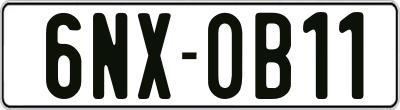0: (206, 12, 245, 102)
1: (303, 11, 328, 103), (338, 10, 363, 102)
6: (43, 11, 84, 103)
B: (254, 10, 296, 96)
N: (92, 11, 128, 97)
X: (135, 12, 174, 99)
